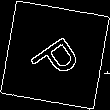P_NE: (23, 25, 87, 85)
